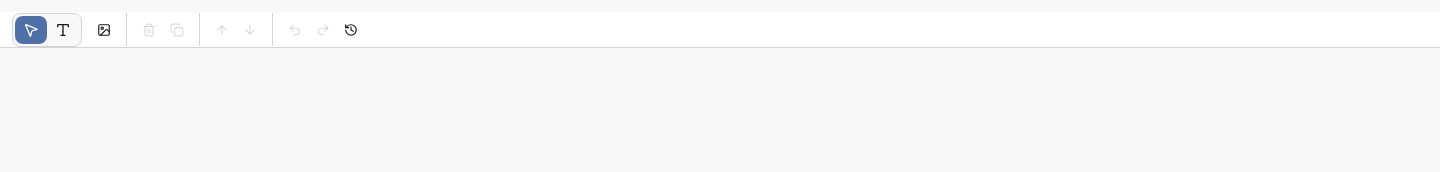
Test: EditModeToolbar › opens restore versions next to undo and redo
Step 1. Click the button named "Restore version" → (351, 30), box [337,16,365,44]
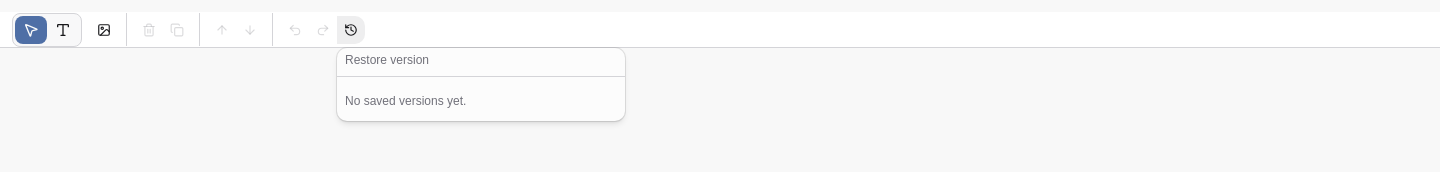
Expected: the text "Restore version" is shown, [345,53,429,67]
